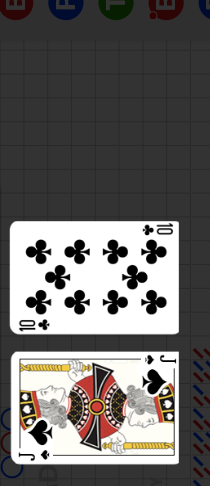10C: (140, 223, 175, 238), (18, 317, 52, 332)
JS: (130, 353, 177, 397), (10, 420, 56, 464)
